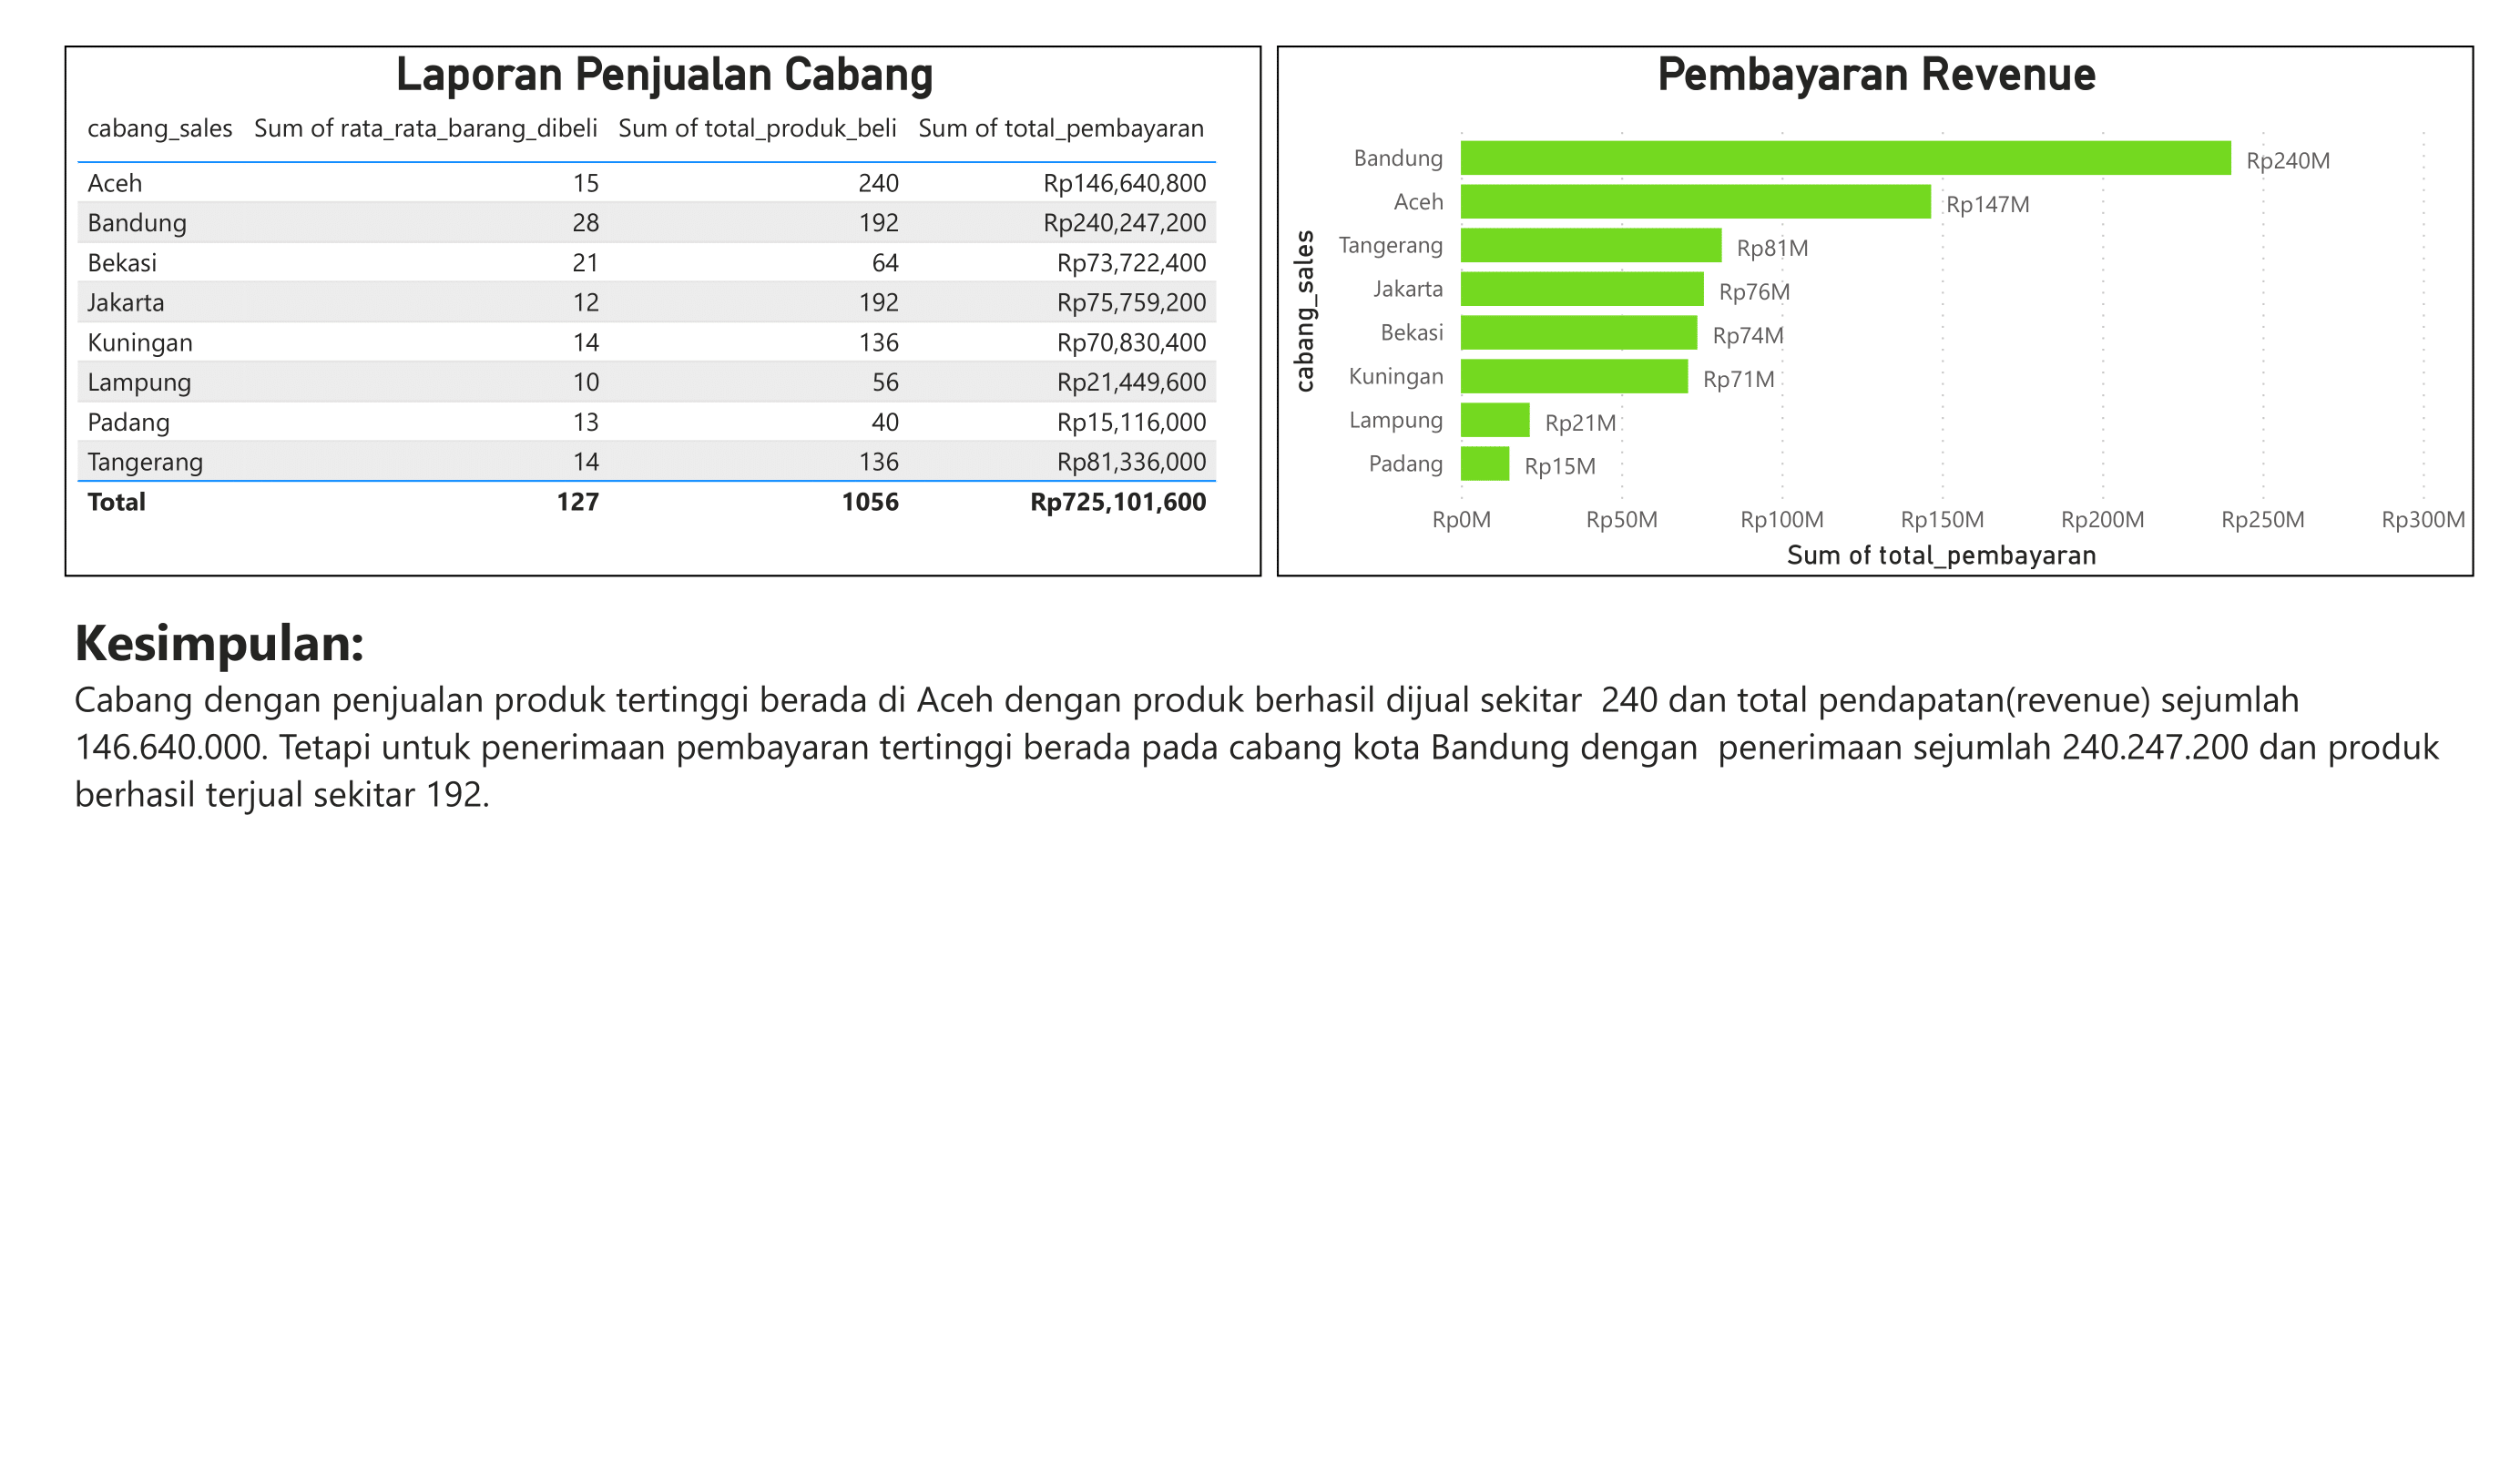

The dashboard page shown, as its layout file describes it:
{"tool":"powerbi","page":{"name":"Analisa Cabang","canvas":[1280,720],"ordinal":2},"visuals":[{"type":"tableEx","title":"Laporan Penjualan Cabang","fields":{"Values":["fk_daerah.cabang_sales","Sum(fk_daerah.rata_rata_barang_dibeli)","Sum(fk_daerah.total_produk_beli)","fk_daerah.total_pembayaran"]},"box":[9.7,0,631,279.9],"z":0},{"type":"barChart","title":"Pembayaran Revenue","fields":{"Category":["fk_daerah.cabang_sales"],"Y":["Sum(fk_daerah.total_pembayaran)"]},"box":[648.8,0,631,279.9],"z":1000},{"type":"textbox","box":[9.7,289.6,1270.1,279.9],"z":2000}]}

Visuals, with their boxes in screenshot pixels (x1, y1, x2, y2):
"Laporan Penjualan Cabang" tableEx: (left=64, top=46, right=1261, bottom=576)
"Pembayaran Revenue" barChart: (left=1277, top=46, right=2474, bottom=576)
textbox: (left=64, top=595, right=2474, bottom=1126)
